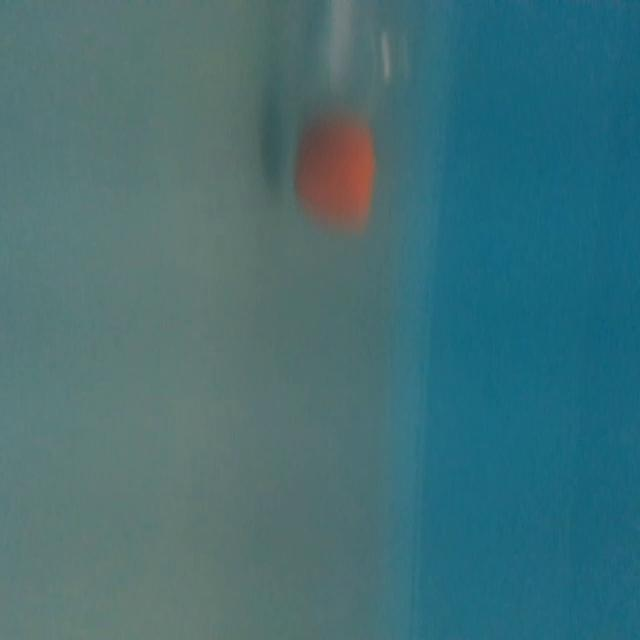plastic bottle: (279, 0, 428, 232)
